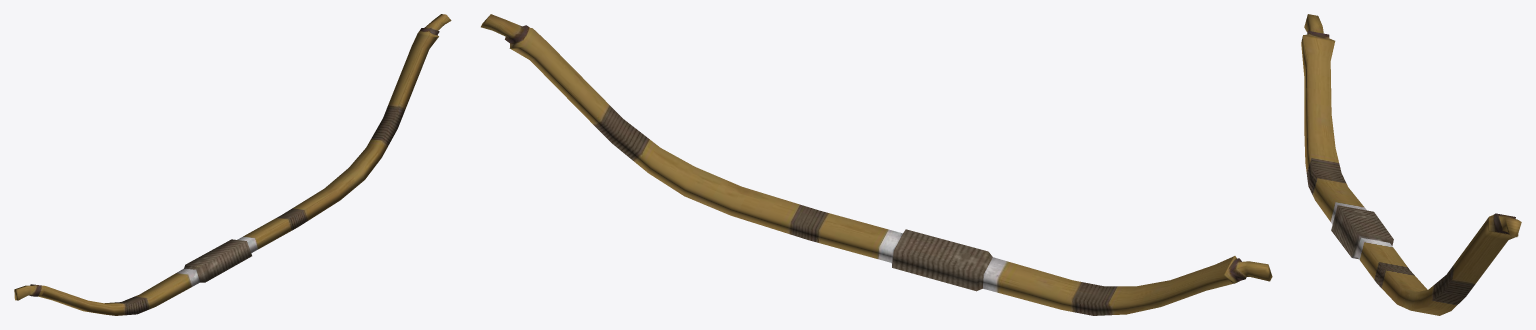
File: rangedweapon-copperweapons.glb
3 renders of one model, left to right at view 1: azimuth 30°, elevation 25°; view 2: azimuth 150°, elevation 25°; view 3: azimuth 270°, elevation 25°, orthographic. The views are drawn at different scales.
Size of the model in its own units: 1.43 by 0.4516 by 0.3532.
Materials: 1 (1 with a texture image).
